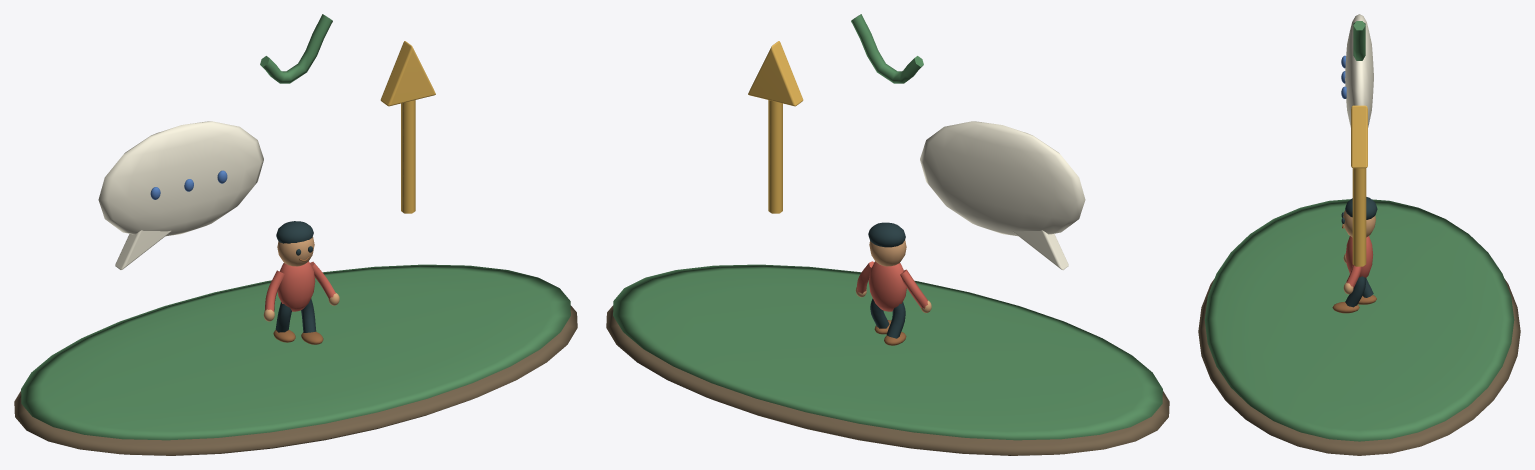
Rendered from complete-first-allow-upward.glb.
3 views of the same model, side by side, from view 1: azimuth 30°, elevation 25°; view 2: azimuth 150°, elevation 25°; view 3: azimuth 270°, elevation 25° (orthographic). The views are drawn at different scales.
Parts seen in each view (by area): view 1: complete-first-allow-upward_surface_01, complete-first-allow-upward_surface_02, complete-first-allow-upward_surface_00, complete-first-allow-upward_surface_04, complete-first-allow-upward_surface_08, complete-first-allow-upward_surface_06, complete-first-allow-upward_surface_05; view 2: complete-first-allow-upward_surface_01, complete-first-allow-upward_surface_02, complete-first-allow-upward_surface_00, complete-first-allow-upward_surface_04, complete-first-allow-upward_surface_08, complete-first-allow-upward_surface_06, complete-first-allow-upward_surface_05; view 3: complete-first-allow-upward_surface_01, complete-first-allow-upward_surface_00, complete-first-allow-upward_surface_04, complete-first-allow-upward_surface_02, complete-first-allow-upward_surface_06, complete-first-allow-upward_surface_08, complete-first-allow-upward_surface_05, complete-first-allow-upward_surface_07.
Part boxes in pixels (left/top/right/bottom): complete-first-allow-upward_surface_01: left=21, top=14, right=570, bottom=440; complete-first-allow-upward_surface_02: left=98, top=121, right=263, bottom=269; complete-first-allow-upward_surface_00: left=14, top=305, right=577, bottom=455; complete-first-allow-upward_surface_04: left=380, top=41, right=435, bottom=213; complete-first-allow-upward_surface_08: left=264, top=261, right=335, bottom=311; complete-first-allow-upward_surface_06: left=275, top=221, right=316, bottom=332; complete-first-allow-upward_surface_05: left=263, top=237, right=339, bottom=321; complete-first-allow-upward_surface_01: left=613, top=14, right=1162, bottom=440; complete-first-allow-upward_surface_02: left=920, top=121, right=1085, bottom=269; complete-first-allow-upward_surface_00: left=606, top=305, right=1169, bottom=455; complete-first-allow-upward_surface_04: left=748, top=41, right=803, bottom=213; complete-first-allow-upward_surface_08: left=856, top=261, right=927, bottom=311; complete-first-allow-upward_surface_06: left=868, top=222, right=905, bottom=338; complete-first-allow-upward_surface_05: left=855, top=239, right=931, bottom=313; complete-first-allow-upward_surface_01: left=1204, top=21, right=1514, bottom=441; complete-first-allow-upward_surface_00: left=1198, top=279, right=1520, bottom=455; complete-first-allow-upward_surface_04: left=1351, top=105, right=1367, bottom=266; complete-first-allow-upward_surface_02: left=1345, top=14, right=1373, bottom=127; complete-first-allow-upward_surface_06: left=1341, top=197, right=1377, bottom=307; complete-first-allow-upward_surface_08: left=1345, top=236, right=1373, bottom=288; complete-first-allow-upward_surface_05: left=1343, top=210, right=1375, bottom=294; complete-first-allow-upward_surface_07: left=1332, top=224, right=1376, bottom=313.
Size of the model in its own units: 4.56 by 2.9 by 2.5.
